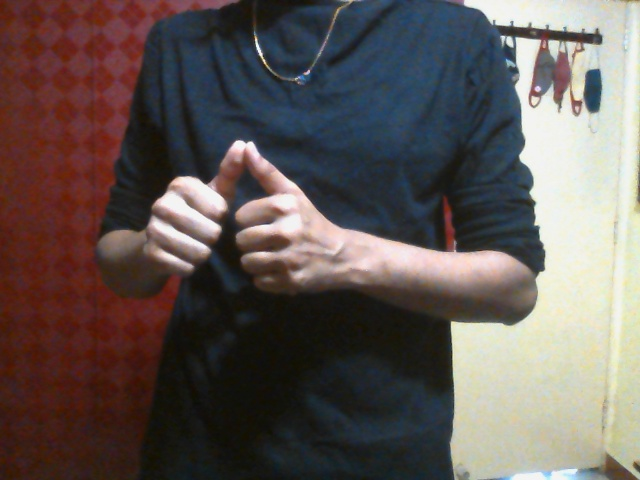A: (139, 138, 332, 296)
